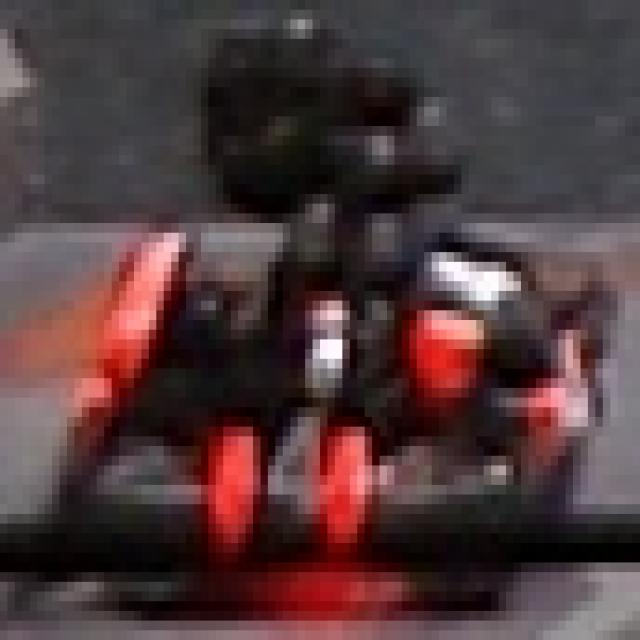R4: (197, 392, 398, 558), (383, 218, 517, 393), (498, 281, 618, 456)
